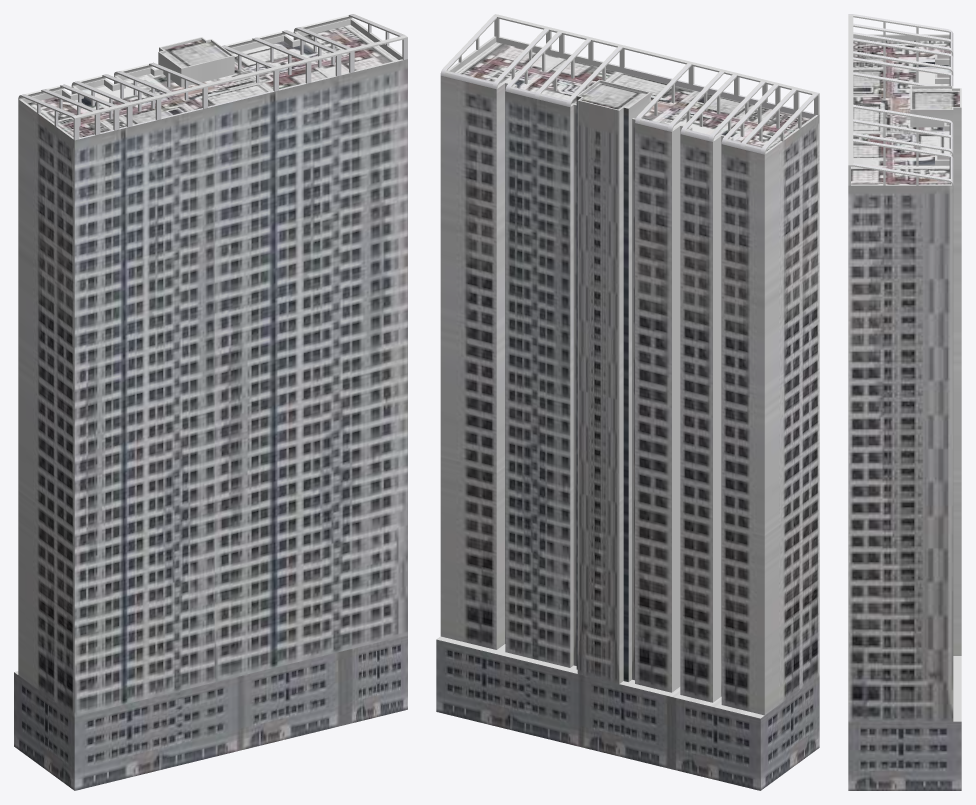
The picture shows the model from 3 angles, left to right: view 1: azimuth 30°, elevation 25°; view 2: azimuth 150°, elevation 25°; view 3: azimuth 270°, elevation 25°; orthographic projection. The views are drawn at different scales.
Visible parts, largest first — view 1: HN1355_VinhomesWestpointW2; view 2: HN1355_VinhomesWestpointW2; view 3: HN1355_VinhomesWestpointW2.
Part boxes in pixels (bbox=[...]): HN1355_VinhomesWestpointW2: bbox=[14, 14, 407, 790]; HN1355_VinhomesWestpointW2: bbox=[436, 14, 819, 790]; HN1355_VinhomesWestpointW2: bbox=[848, 14, 961, 790].
Size of the model in its own units: 75 by 145 by 23.7.
Materials: 1 (1 with a texture image).
